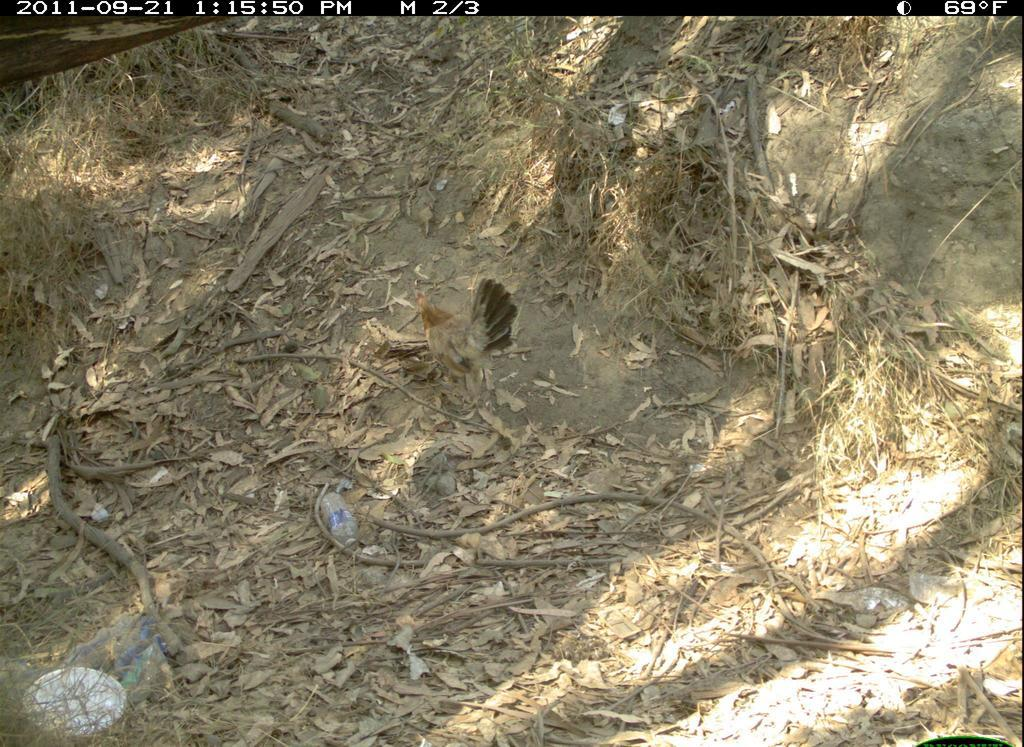bird: (407, 274, 524, 412)
